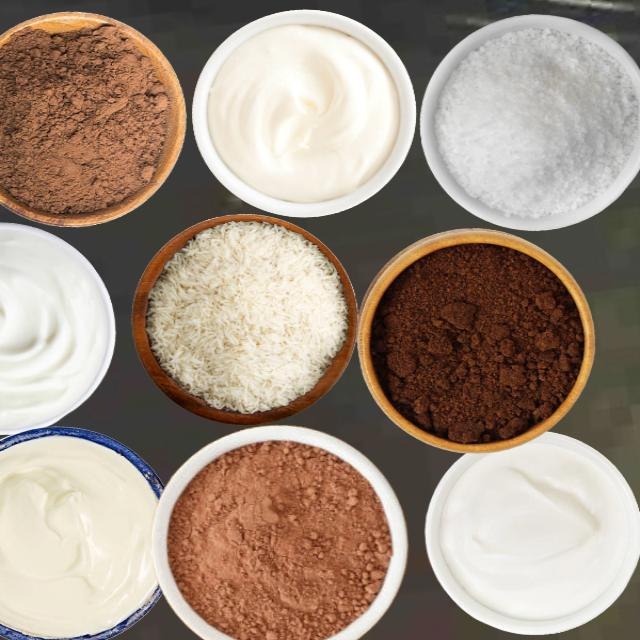Cocoa: (166, 439, 392, 639), (0, 17, 185, 216)
Coffee: (369, 240, 586, 444)
Sugar: (433, 25, 639, 219)
